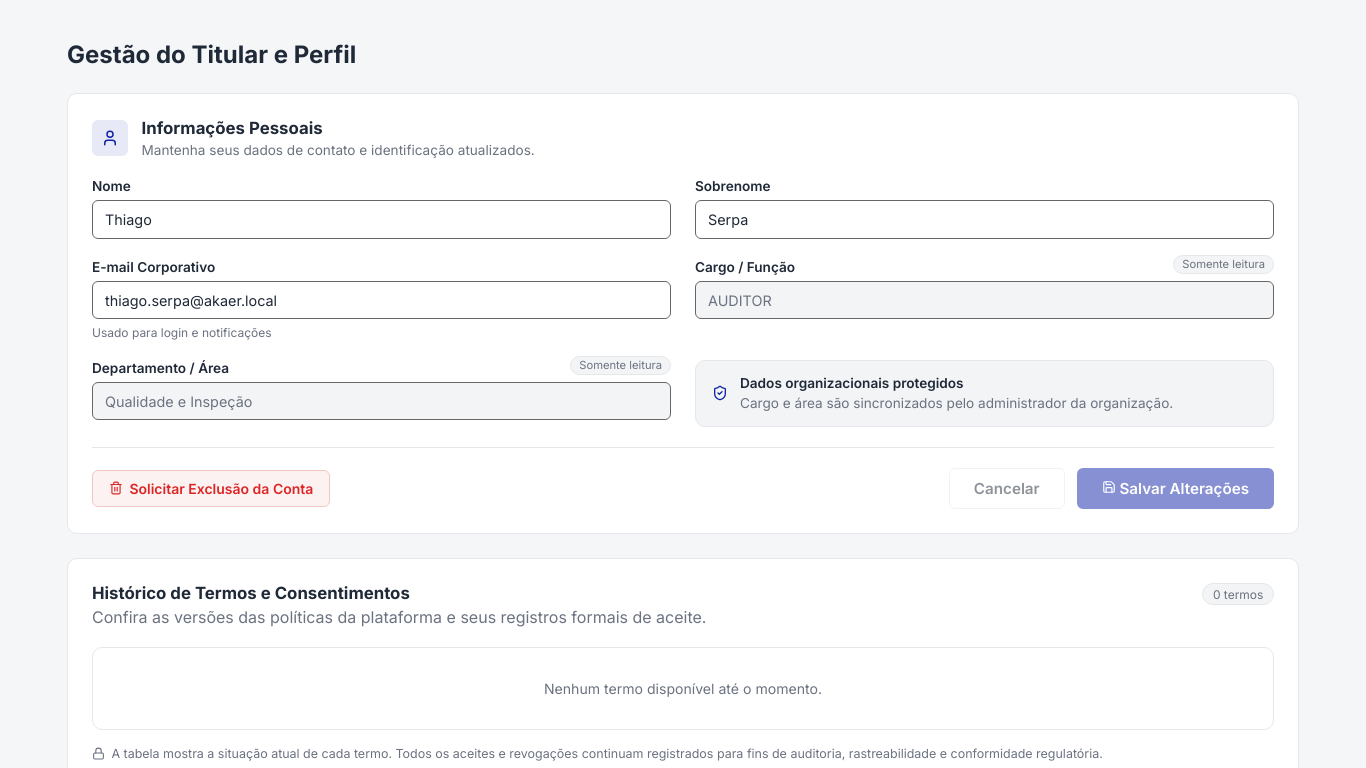
UserManagementView › should show validation errors from the API on the fields
This screenshot has width=1366, height=768.
Replace the text in the field with id "email" with "invalido" at (382, 300), box [92,281,671,319]
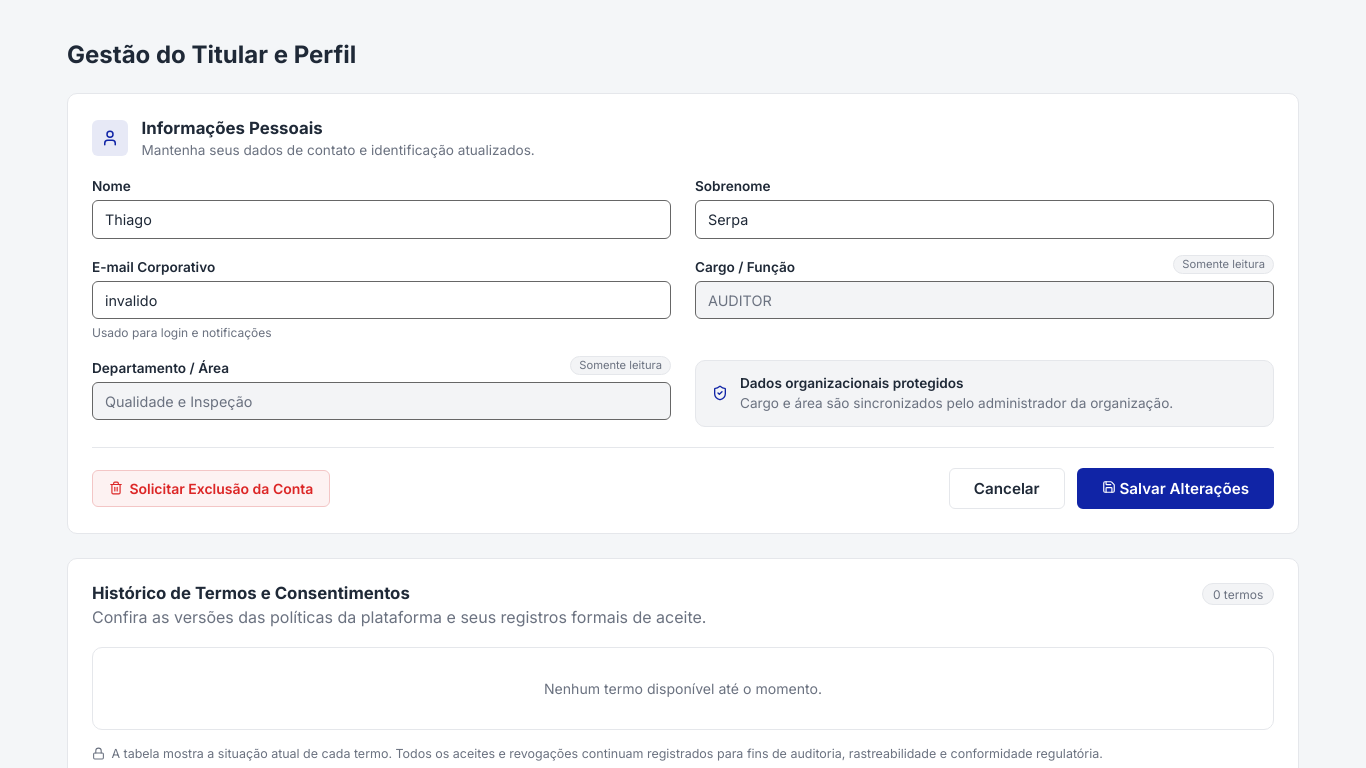
Click the button "Salvar Alterações" at (1175, 488), box [1077,468,1274,509]
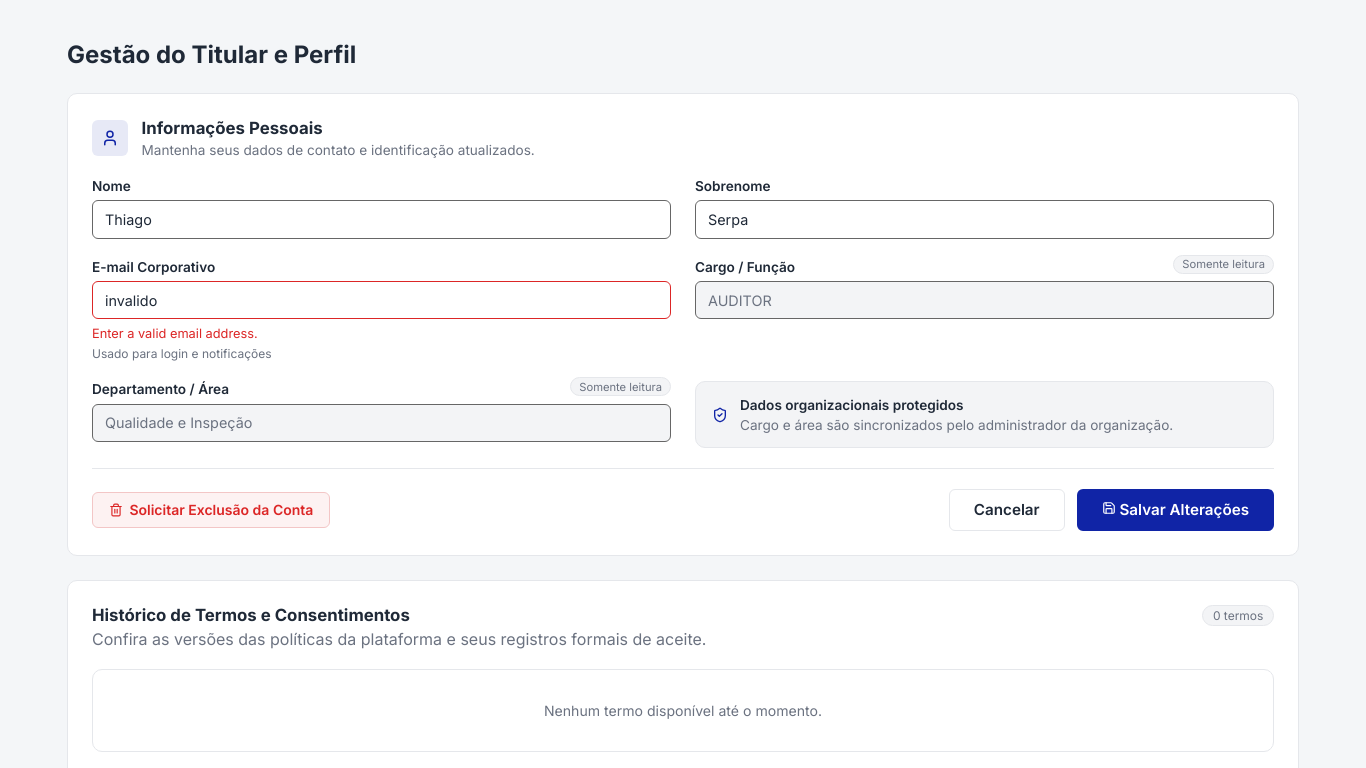
expect the text "Enter a valid email address." is shown: met, box [92,326,258,340]
